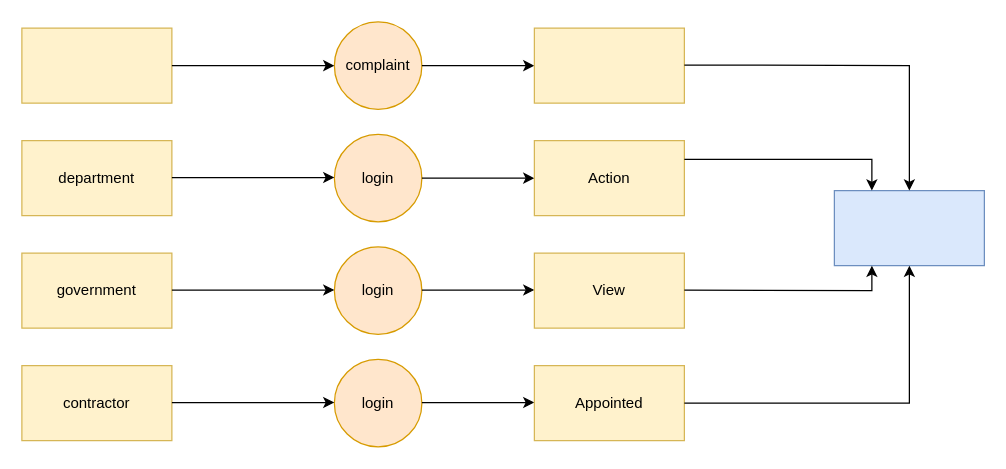
Image size: 1006x469. Some labels were removed from this diagram. Each missing label, with the box of its shape:
Database: (833, 189, 984, 266)
public: (21, 27, 172, 103)
Upload Complaint: (533, 27, 684, 103)
